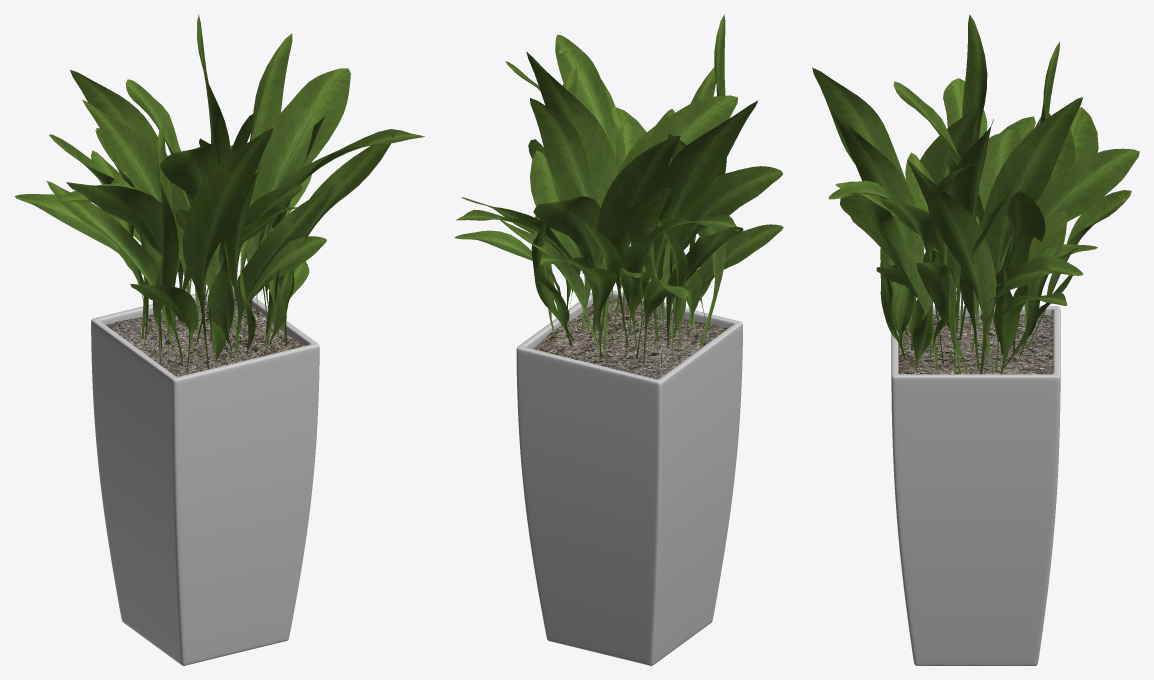
File: pianta_dx.glb
3 renders of one model, left to right at view 1: azimuth 30°, elevation 25°; view 2: azimuth 150°, elevation 25°; view 3: azimuth 270°, elevation 25°, orthographic.
Parts seen in each view (by area): view 1: Vaso_dx, Foglie_dx, Ghiaia_dx; view 2: Vaso_dx, Foglie_dx, Ghiaia_dx; view 3: Foglie_dx, Vaso_dx, Ghiaia_dx.
Part boxes in pixels (x1,y1,x2,y2): Vaso_dx: (91,286,319,665); Foglie_dx: (14,14,424,371); Ghiaia_dx: (106,297,305,376); Vaso_dx: (516,290,742,665); Foglie_dx: (454,14,783,364); Ghiaia_dx: (533,297,727,379); Foglie_dx: (812,14,1139,374); Vaso_dx: (891,306,1060,665); Ghiaia_dx: (898,314,1053,374).
Bounding box in the file's own units: 0.7321 × 1.36 × 0.7095.
Materials: 3 (2 with a texture image).
